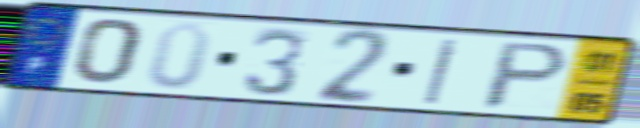0: (69, 16, 147, 87), (144, 20, 215, 93)
2: (311, 24, 393, 107)
3: (243, 25, 306, 99)
I: (420, 36, 463, 107)
P: (477, 39, 574, 111)
